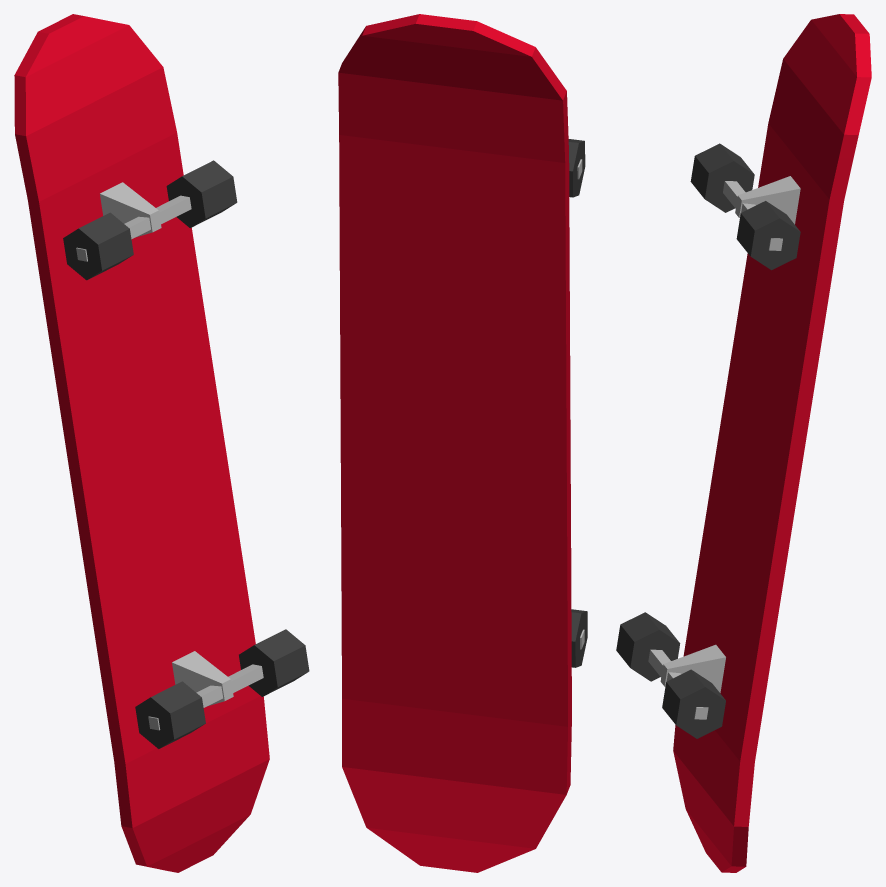
The model's file is Childroom2_skateboard_231109.glb.
The picture shows the model from 3 angles, left to right: view 1: azimuth 30°, elevation 25°; view 2: azimuth 150°, elevation 25°; view 3: azimuth 270°, elevation 25°; orthographic projection. The views are drawn at different scales.
Visible parts, largest first — view 1: Childroom2_skateboard; view 2: Childroom2_skateboard; view 3: Childroom2_skateboard.
Boxes of the visible parts, left/top/right/bottom form: Childroom2_skateboard: left=14, top=14, right=309, bottom=872; Childroom2_skateboard: left=338, top=14, right=587, bottom=872; Childroom2_skateboard: left=616, top=14, right=871, bottom=872.
Bounding box in the file's own units: 0.6026 × 1.99 × 0.5682.
Materials: 1 (1 with a texture image).
